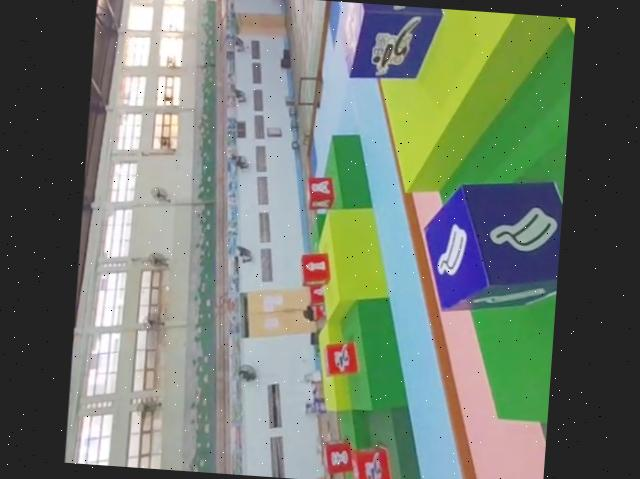R1 Blue: (339, 1, 444, 81)
R2 Real Blue: (419, 172, 564, 319)
